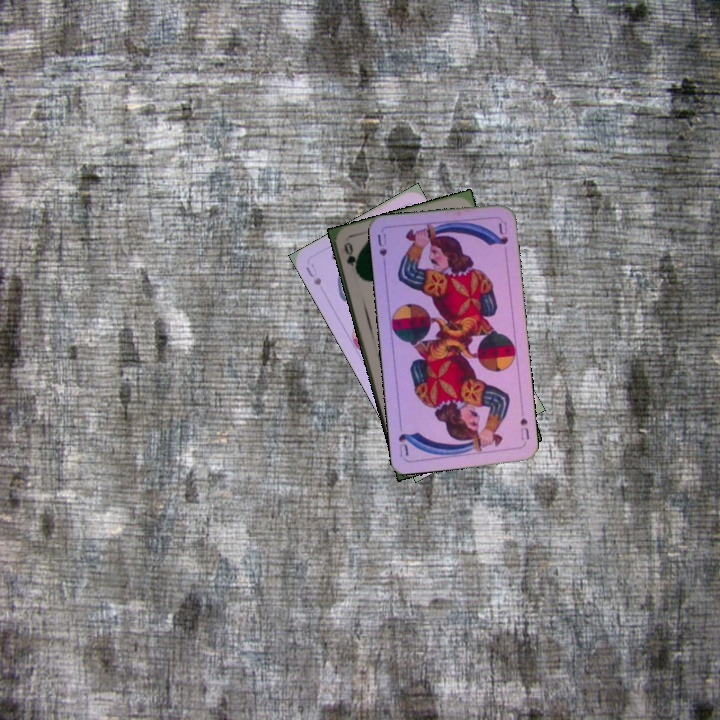GO: (340, 239, 362, 278)
SU: (373, 229, 390, 270), (301, 260, 324, 288), (516, 414, 532, 443)
